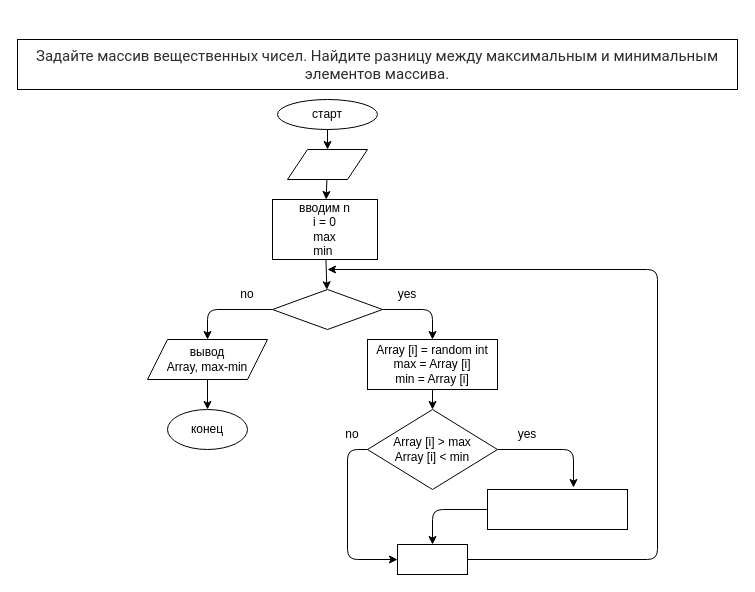
Some shapes in this 755 by 592 pixel diagram are drawn without their labels. Here are the shapes that lost their labels. From the top down, the box of each, then its label:
(286, 148, 368, 180): n, Array
(272, 288, 382, 330): i < n
(486, 488, 628, 530): max = Array [i] min = Array [i]
(396, 544, 468, 574): i = i + 1
